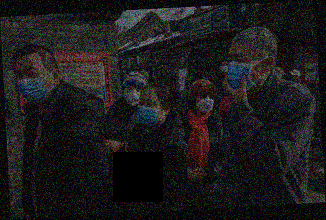with_mask: (228, 49, 264, 92), (14, 63, 52, 102), (136, 95, 163, 127), (194, 91, 215, 113), (123, 85, 144, 106), (221, 63, 230, 74), (195, 70, 204, 78)
